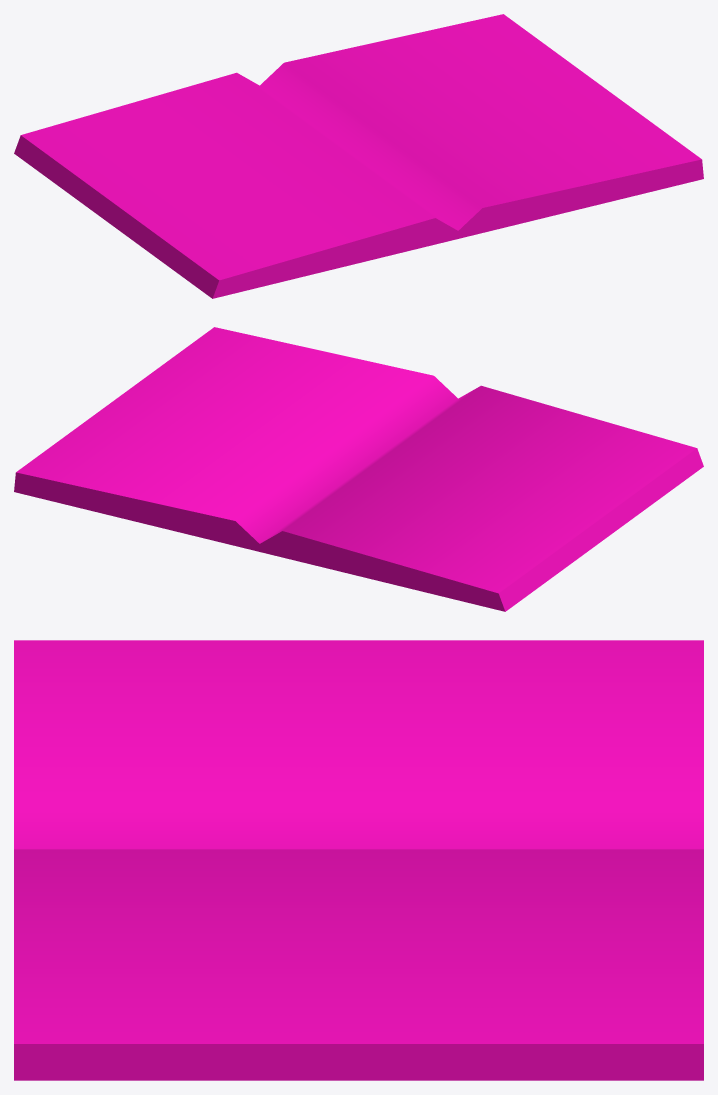
File: study_book_open_2_meshCollider.fbx
3 views of the same model, one above another, from view 1: azimuth 30°, elevation 25°; view 2: azimuth 150°, elevation 25°; view 3: azimuth 270°, elevation 25° (orthographic). The views are drawn at different scales.
Parts seen in each view (by area): view 1: study_book_open_2_meshCollider; view 2: study_book_open_2_meshCollider; view 3: study_book_open_2_meshCollider.
Boxes of the visible parts, x1,y1,x2,y2 form: study_book_open_2_meshCollider: (14, 14, 703, 298); study_book_open_2_meshCollider: (14, 327, 703, 611); study_book_open_2_meshCollider: (14, 640, 703, 1080).
Bounding box in the file's own units: 39.12 × 2.02 × 27.38.
